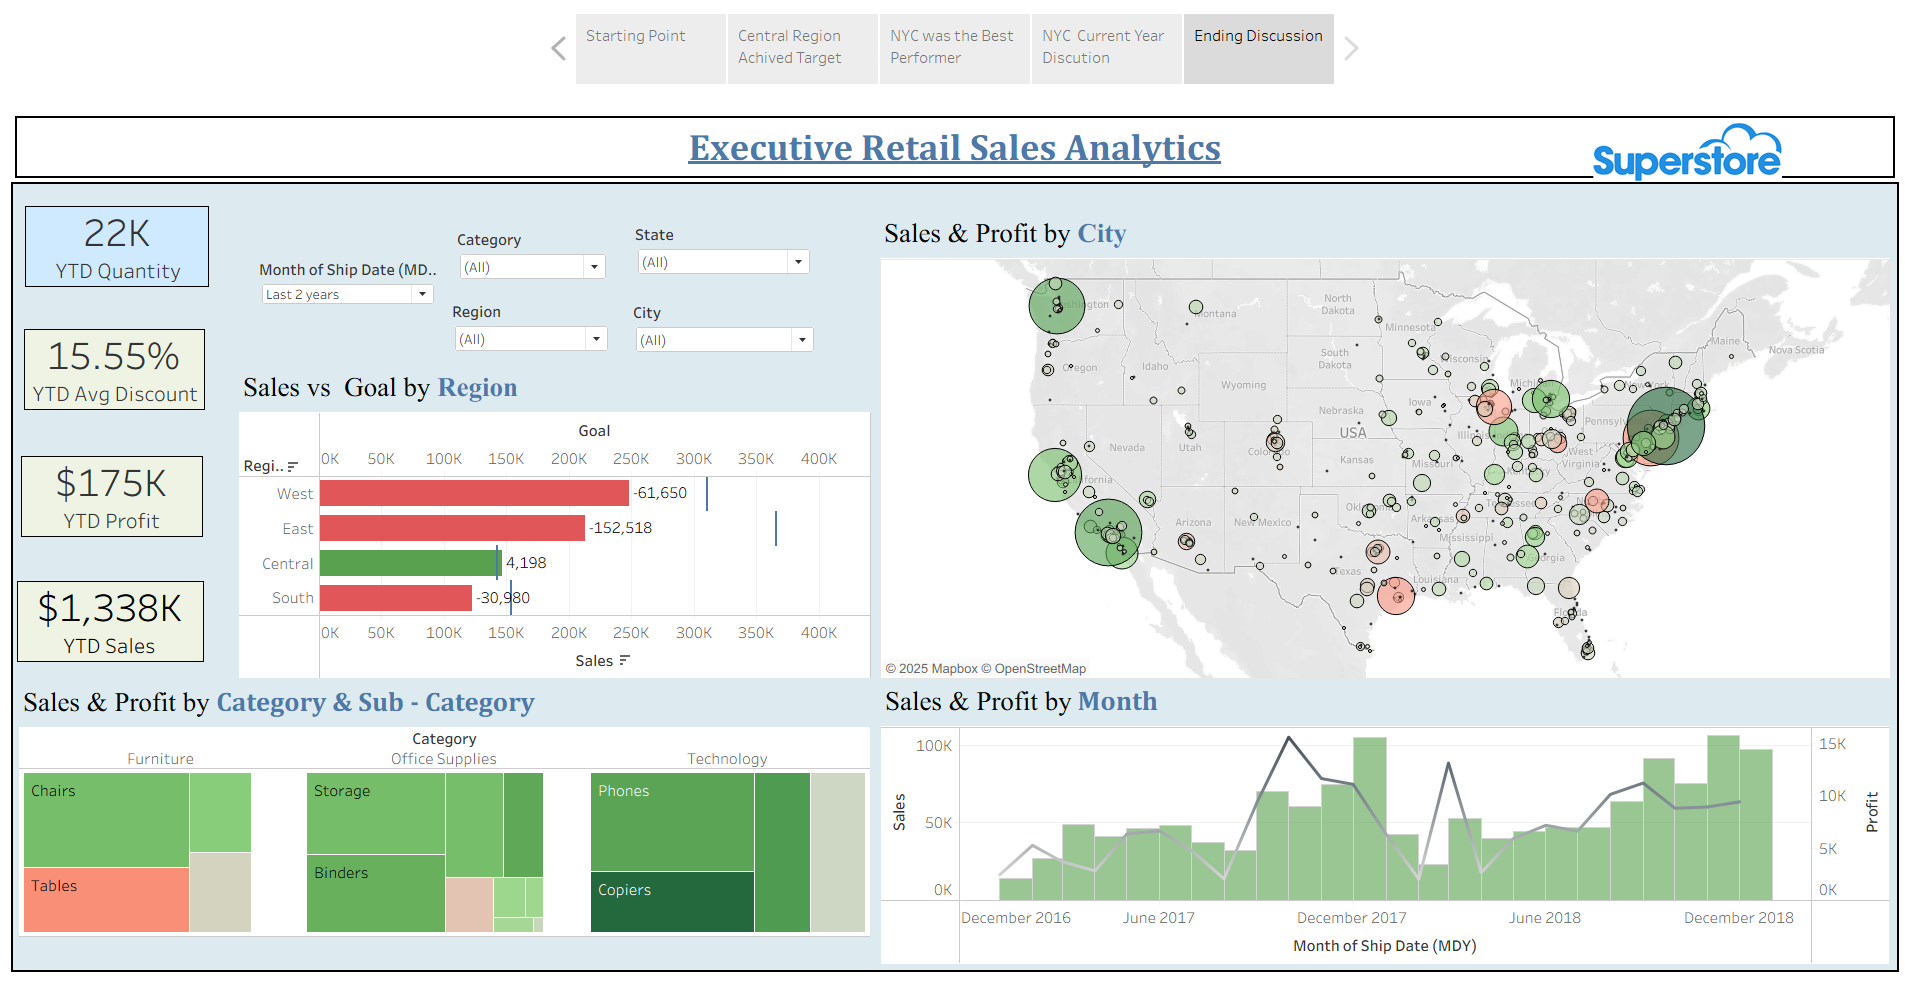

The page's visual inventory and layout, read from the dashboard file:
{"tool":"tableau","page":{"name":"Dashboard 1","canvas":[1000,1000],"units":"permille","ordinal":0},"visuals":[{"type":"title","box":[4.8,10,990.3,87.4]},{"type":"image","param":"Image/download.png","box":[835.2,20,109.8,67.4]},{"type":"worksheet","title":"Sheet 6 (3)","mark":"Automatic","box":[11.5,116.1,112.9,107.4]},{"type":"worksheet","title":"Sheet 3","mark":"Automatic","box":[460.5,126.1,531.1,530.6]},{"type":"filter","title":"Sheet 3","param":"[federated.0hnb2jl033wxgv19xz3st11ub5jo].[none:State:nk]","box":[331.9,137.3,93.5,72.4]},{"type":"filter","title":"Sheet 4","param":"[federated.0hnb2jl033wxgv19xz3st11ub5jo].[none:Category:nk]","box":[238.4,142.3,79.7,76.2]},{"type":"filter","title":"Sheet 5","param":"[federated.0hnb2jl033wxgv19xz3st11ub5jo].[tmn:Ship Date (MDY):qk]","box":[134.6,177.3,93.5,72.4]},{"type":"filter","title":"Sheet 2","param":"[federated.0hnb2jl033wxgv19xz3st11ub5jo].[none:Region:nk]","box":[236,224.7,83.3,73.7]},{"type":"filter","title":"Sheet 3","param":"[federated.0hnb2jl033wxgv19xz3st11ub5jo].[none:City:nk]","box":[330.7,226,96.6,82.4]},{"type":"worksheet","title":"Sheet 6 (4)","mark":"Automatic","box":[10.9,257.2,109.8,101.1]},{"type":"worksheet","title":"Sheet 2","mark":"Automatic","rows":["Region"],"cols":["Sales","Goal"],"box":[123.7,300.9,331.9,354.6]},{"type":"worksheet","title":"Sheet 6 (2)","mark":"Automatic","box":[9.7,402,111,103.6]},{"type":"worksheet","title":"Sheet 6","mark":"Automatic","box":[7.2,544.3,113.5,112.4]},{"type":"worksheet","title":"Sheet 5","mark":"Automatic","rows":["Sales","Profit"],"cols":["Ship Date (MDY)"],"box":[461.1,657.9,529.9,324.6]},{"type":"worksheet","title":"Sheet 4","mark":"Automatic","cols":["Category"],"box":[8.4,659.2,447.2,320.9]}]}

Visuals, with their boxes on the dashboard's canvas, which has no fixed pixel size, in thousandths of its width and height (x1, y1, x2, y2). These are canvas units, not pixel positions in the 1905x985 screenshot, which may show the page scaled, cropped or inside an application window:
title: 5,10,995,97
image: 835,20,945,87
"Sheet 6 (3)" worksheet: 12,116,124,224
"Sheet 3" worksheet: 460,126,992,657
"Sheet 3" filter: 332,137,425,210
"Sheet 4" filter: 238,142,318,218
"Sheet 5" filter: 135,177,228,250
"Sheet 2" filter: 236,225,319,298
"Sheet 3" filter: 331,226,427,308
"Sheet 6 (4)" worksheet: 11,257,121,358
"Sheet 2" worksheet: 124,301,456,656
"Sheet 6 (2)" worksheet: 10,402,121,506
"Sheet 6" worksheet: 7,544,121,657
"Sheet 5" worksheet: 461,658,991,982
"Sheet 4" worksheet: 8,659,456,980
